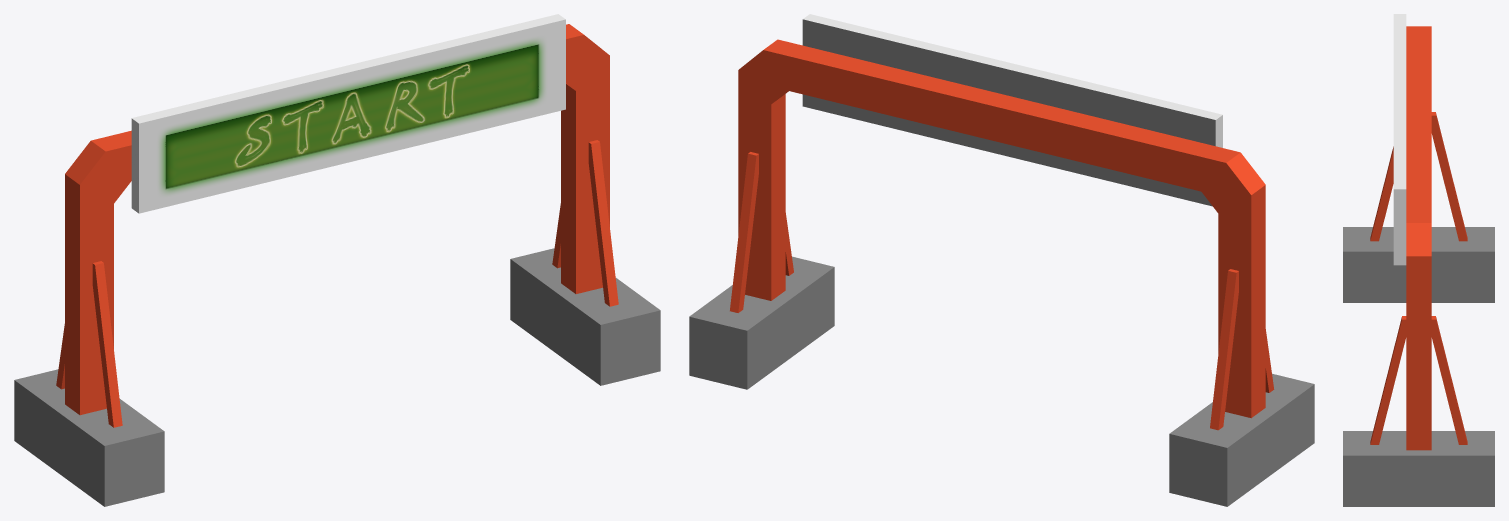
File: StartGate.fbx
The picture shows the model from 3 angles, left to right: view 1: azimuth 30°, elevation 25°; view 2: azimuth 150°, elevation 25°; view 3: azimuth 270°, elevation 25°; orthographic projection. The views are drawn at different scales.
Parts seen in each view (by area): view 1: OBJ_Gate; view 2: OBJ_Gate; view 3: OBJ_Gate.
Part boxes in pixels (x1,y1,x2,y2): OBJ_Gate: (14,14,660,506); OBJ_Gate: (689,14,1314,506); OBJ_Gate: (1343,14,1494,506).
Bounding box in the file's own units: 15.2 × 9.03 × 4.27.
